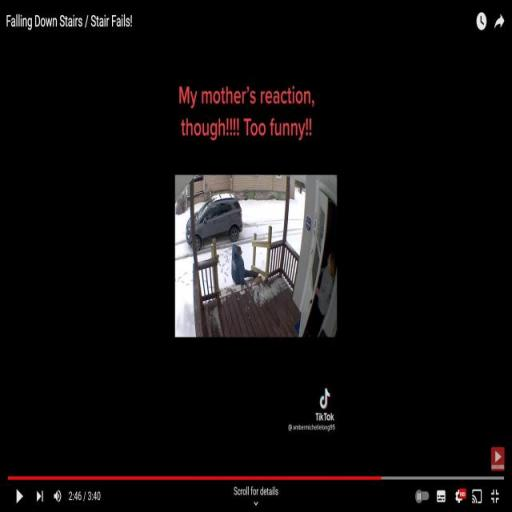Fall: (230, 241, 260, 288)
